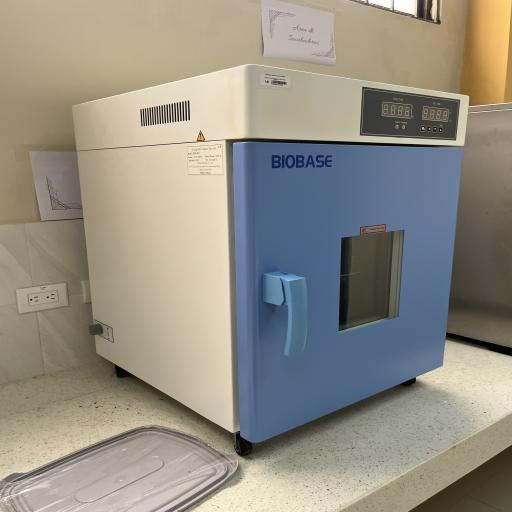Horno_Secado_Biobase: (59, 56, 477, 463)
